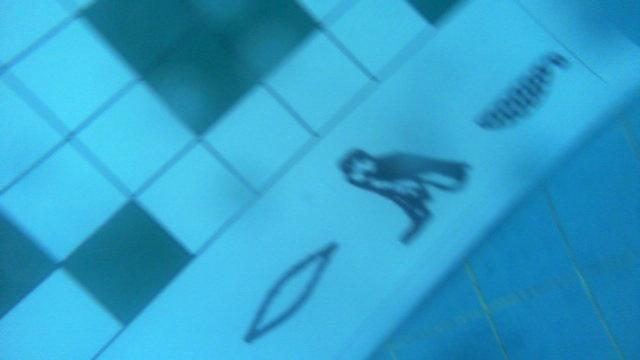Basket: (483, 43, 574, 137)
Mouth: (242, 238, 333, 346)
Owl: (338, 149, 481, 252)
